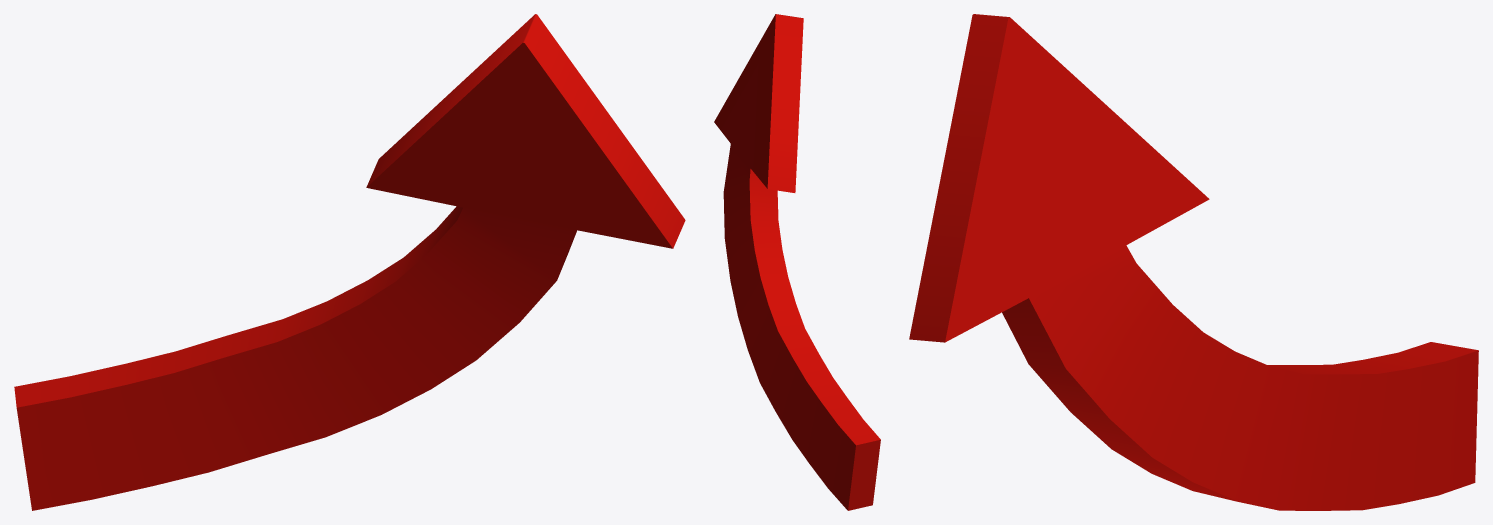
File: Arrow11.fbx
3 views of the same model, side by side, from view 1: azimuth 30°, elevation 25°; view 2: azimuth 150°, elevation 25°; view 3: azimuth 270°, elevation 25° (orthographic). The views are drawn at different scales.
Visible parts, largest first — view 1: Cube.110; view 2: Cube.110; view 3: Cube.110.
Boxes of the visible parts, box(x1,y1,x2,y2) form: Cube.110: box(14, 14, 685, 510); Cube.110: box(714, 14, 880, 510); Cube.110: box(909, 14, 1478, 510).
Size of the model in its own units: 1.98 by 2.24 by 1.79.
